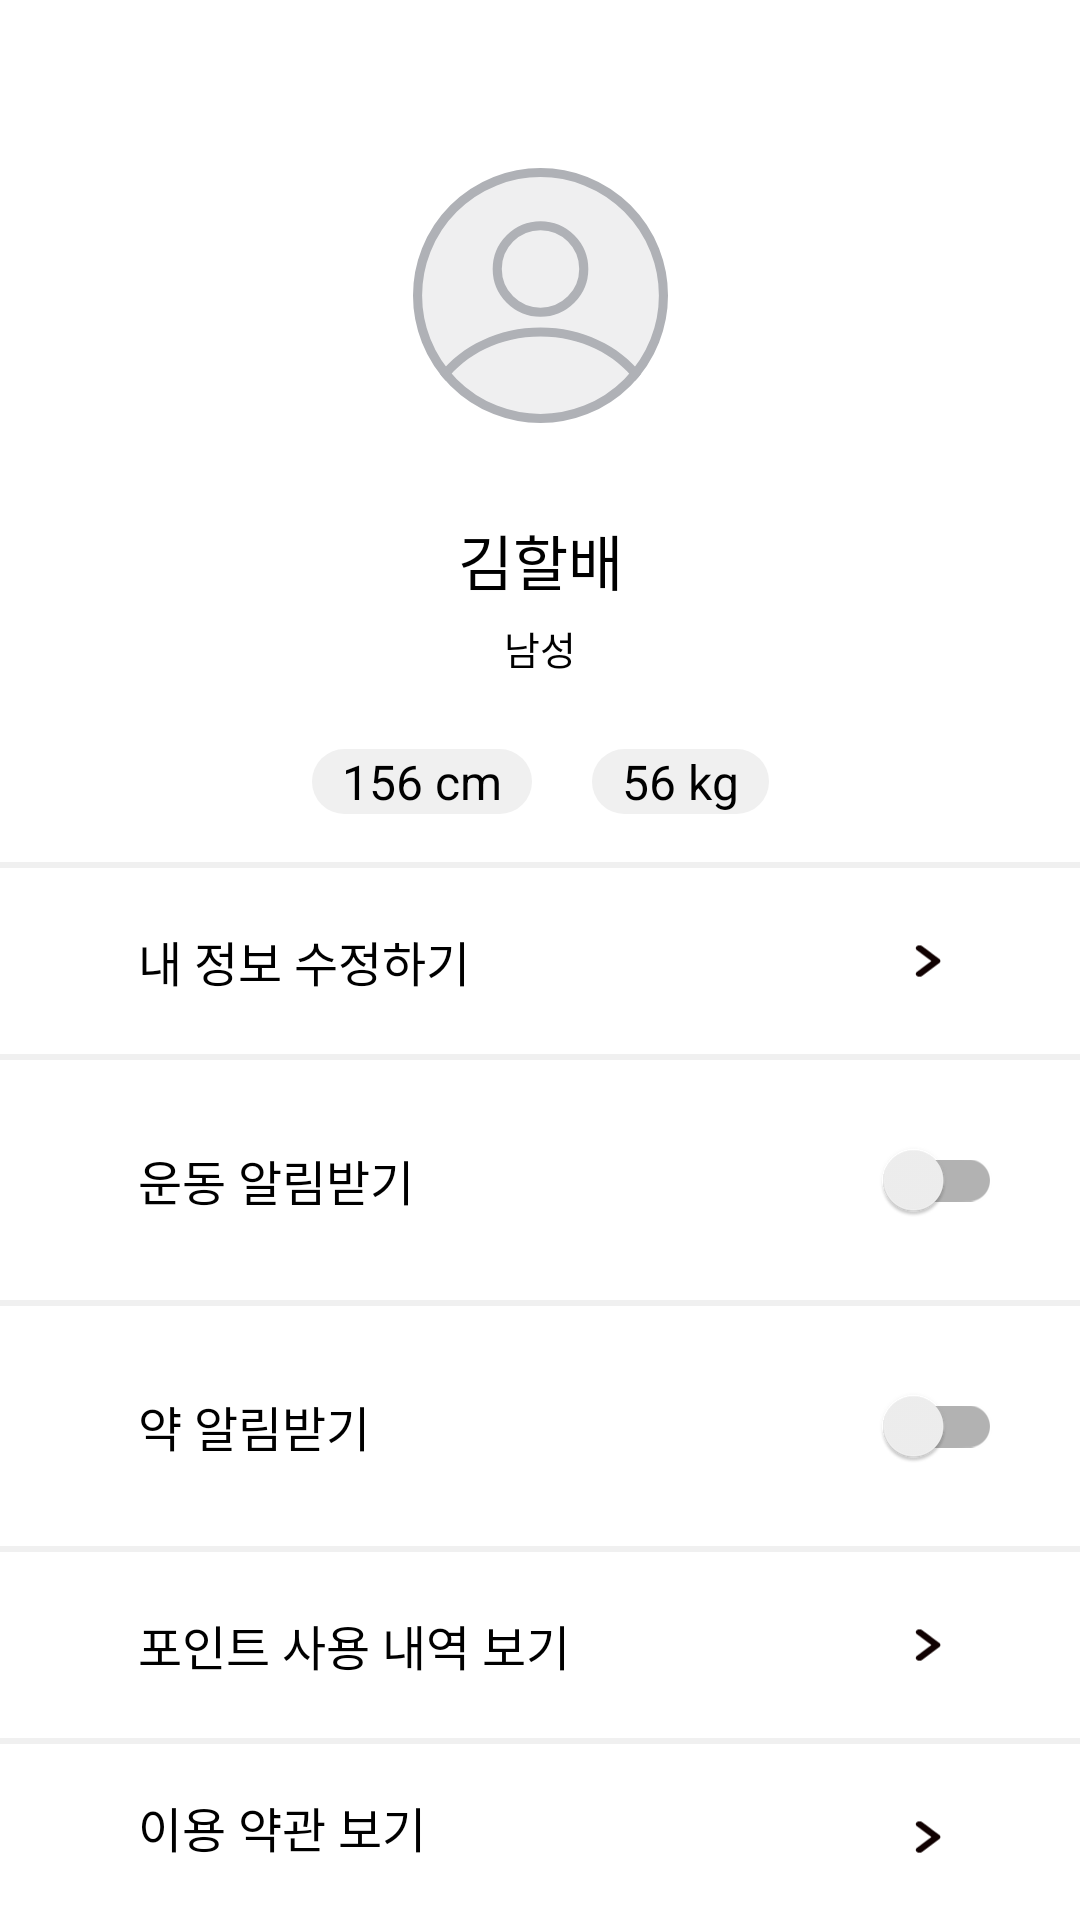

Screen size 1080w x 1920h. Icon name, then its box in pixels as (x1, y1, x2, y2):
profile: (413, 168, 668, 423)
right arrow: (915, 945, 941, 977), (915, 1629, 941, 1661), (915, 1821, 941, 1853)
